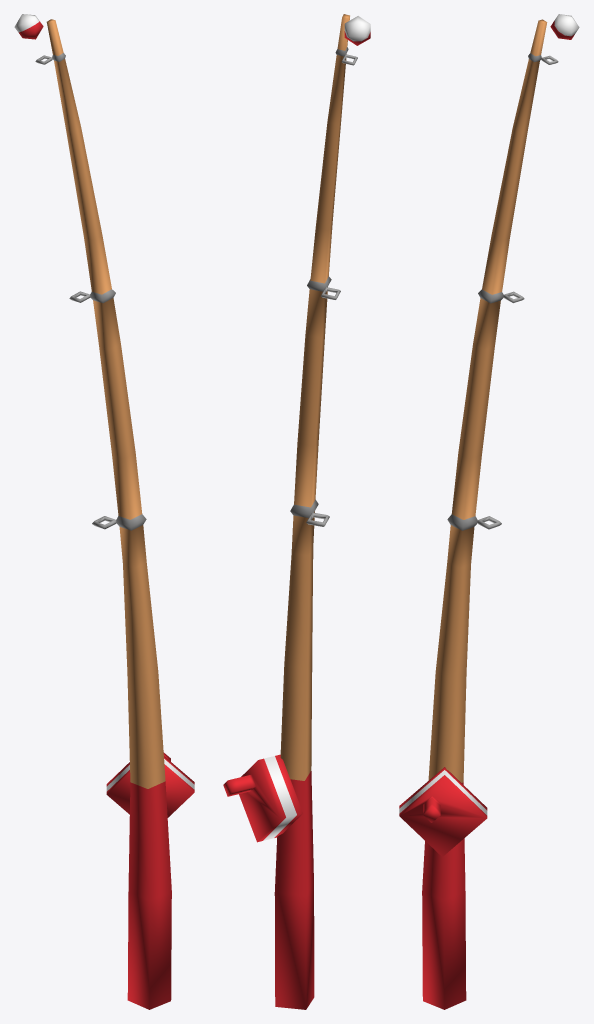
File: Fishing road curved.fbx
3 renders of one model, left to right at view 1: azimuth 90°, elevation 25°; view 2: azimuth 210°, elevation 25°; view 3: azimuth 270°, elevation 25°, orthographic. The views are drawn at different scales.
Parts seen in each view (by area): view 1: Fishing road Curved; view 2: Fishing road Curved; view 3: Fishing road Curved.
Boxes of the visible parts, box(x1,y1,x2,y2) form: Fishing road Curved: box(14, 14, 194, 1009); Fishing road Curved: box(223, 14, 370, 1009); Fishing road Curved: box(399, 14, 579, 1009).
Size of the model in its own units: 97.87 by 1203 by 199.
